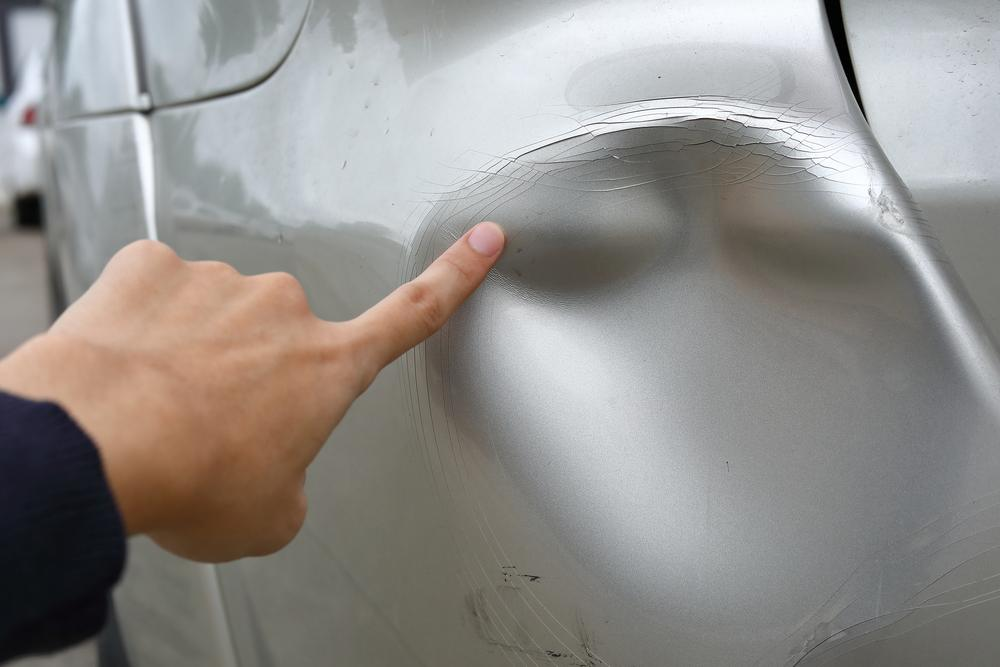dent: (418, 112, 978, 622)
scratch: (450, 561, 616, 667)
